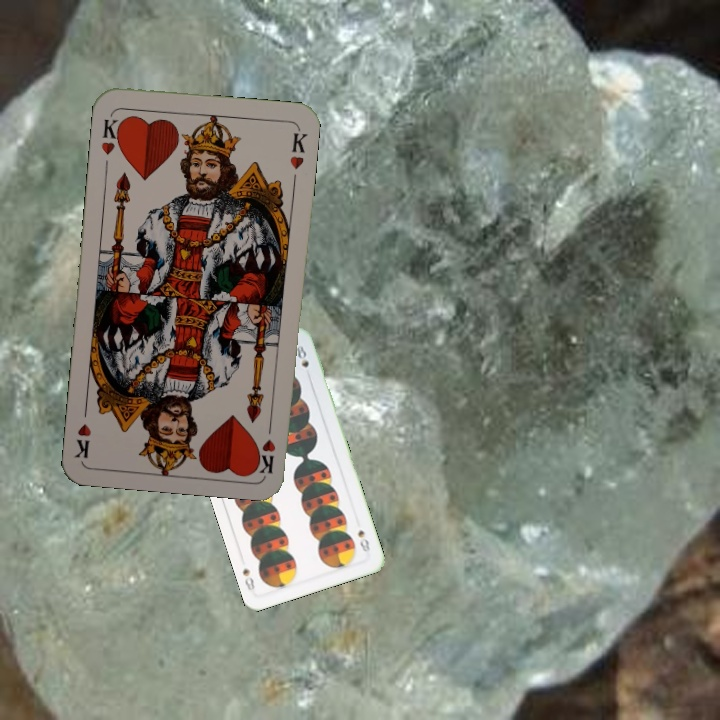HK: (255, 416, 278, 475), (97, 111, 125, 157)
S8: (354, 526, 373, 558)
